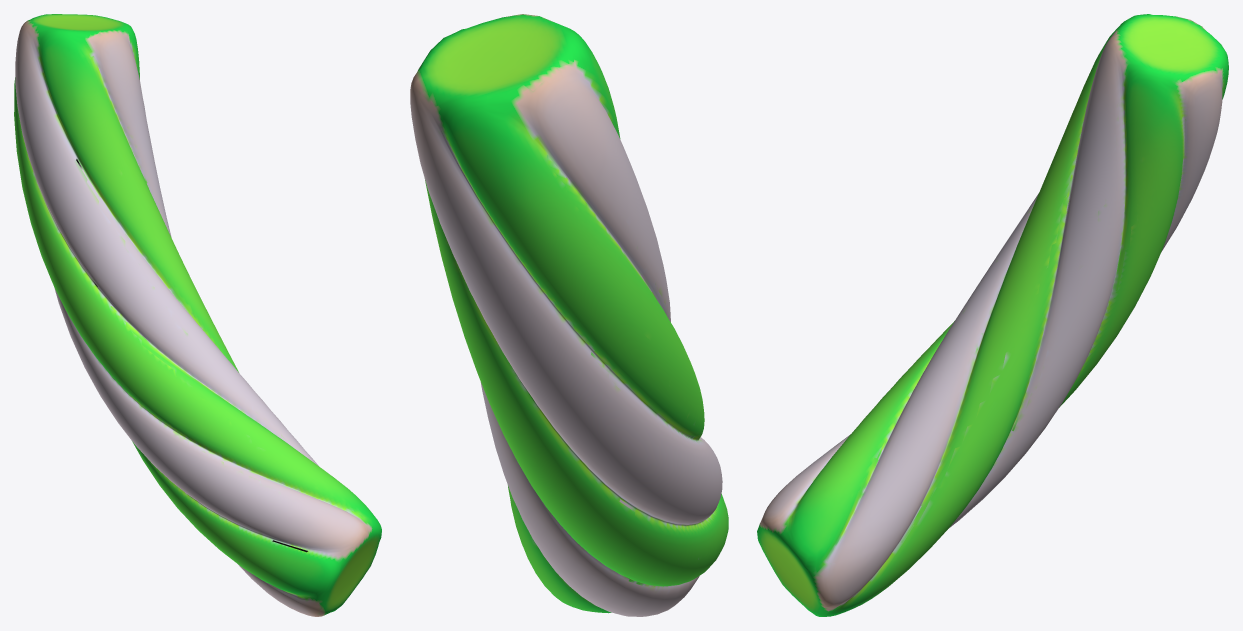
The model's file is twister_001.obj.
3 renders of one model, left to right at view 1: azimuth 30°, elevation 25°; view 2: azimuth 150°, elevation 25°; view 3: azimuth 270°, elevation 25°, orthographic. The views are drawn at different scales.
Visible parts, largest first — view 1: twister.001; view 2: twister.001; view 3: twister.001.
Boxes of the visible parts, x1,y1,x2,y2 form: twister.001: (14, 14, 381, 616); twister.001: (410, 14, 728, 616); twister.001: (757, 14, 1228, 616).
Bounding box in the file's own units: 0.8476 × 1.99 × 1.59.
1 material, 1 textured.
